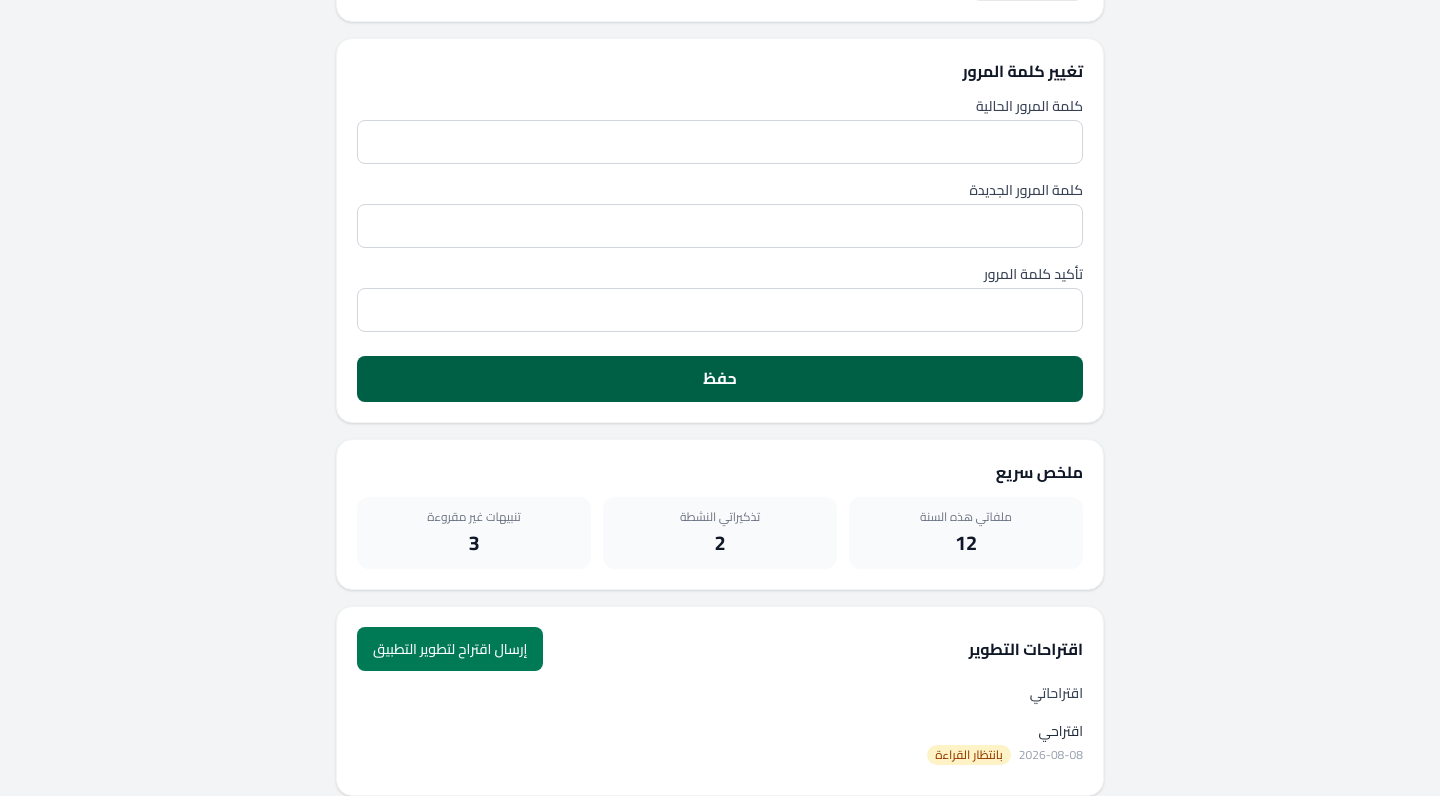
Test case: AccountPage › يرفض الاقتراح الفارغ ويركّز الحقل
This screenshot has width=1440, height=796.
(page scrolled)
What coordinates should you click on to do the following:
click the button "إرسال اقتراح لتطوير التطبيق"
I would click on:
 (450, 649)
Its box is [357,627,543,671].
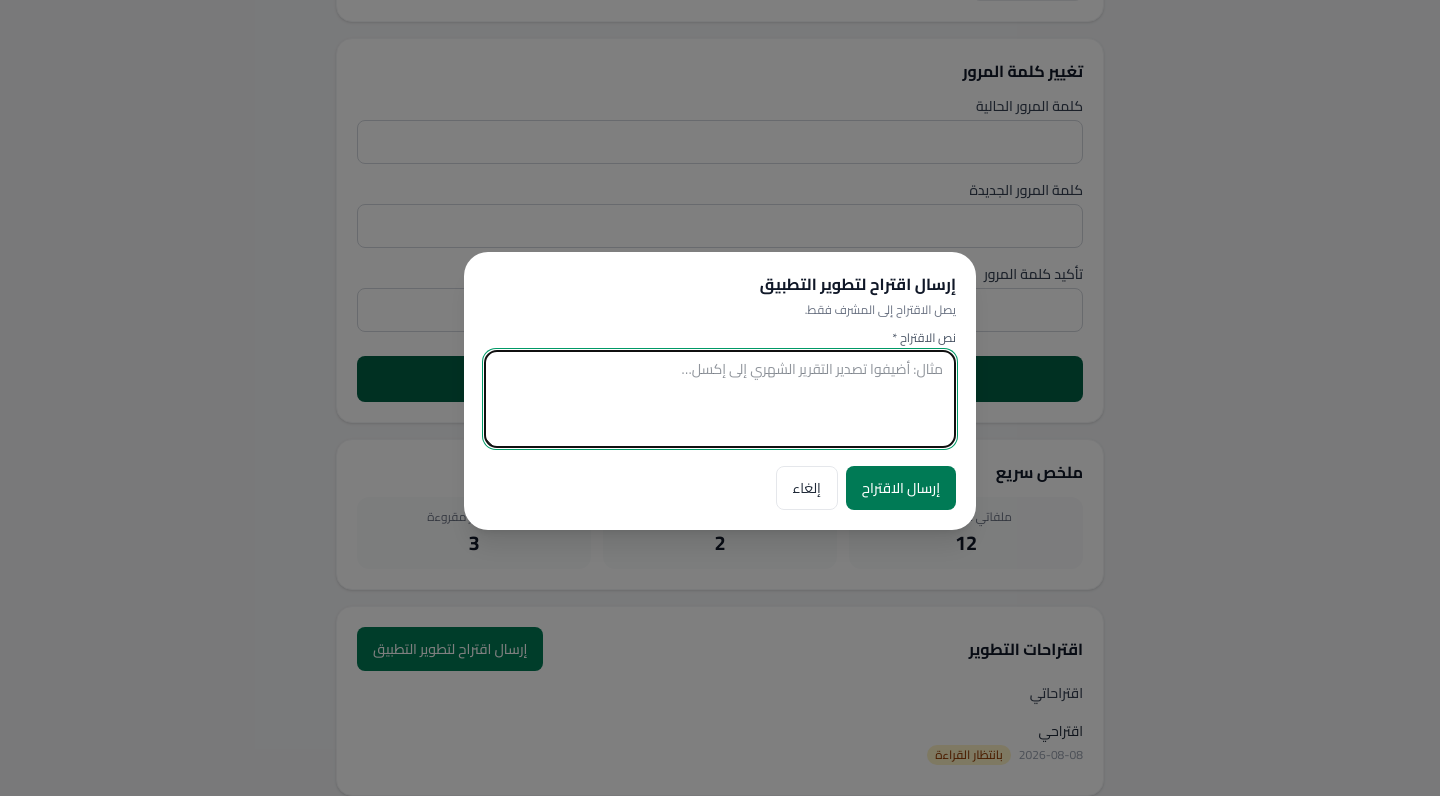
What coordinates should you click on to do the following:
click the button "إرسال الاقتراح"
I would click on:
 (901, 488)
Its box is [846,466,956,510].
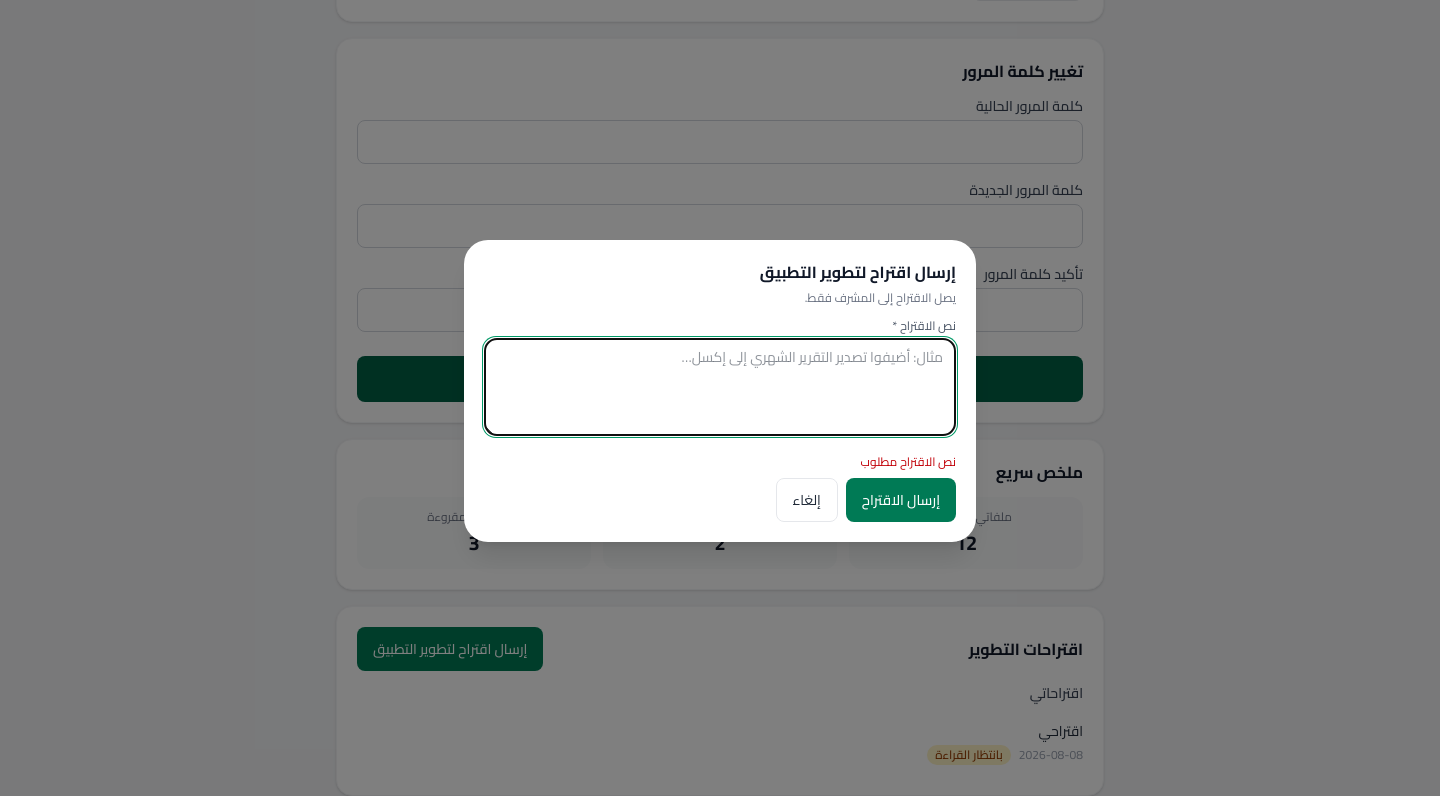
Result: the message reads "نص الاقتراح مطلوب" at [860,450,956,473]
